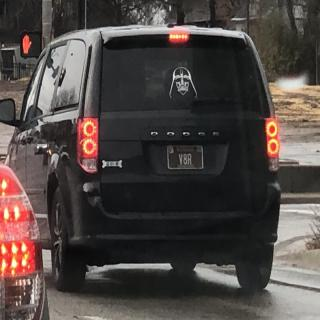license: (168, 146, 204, 170)
